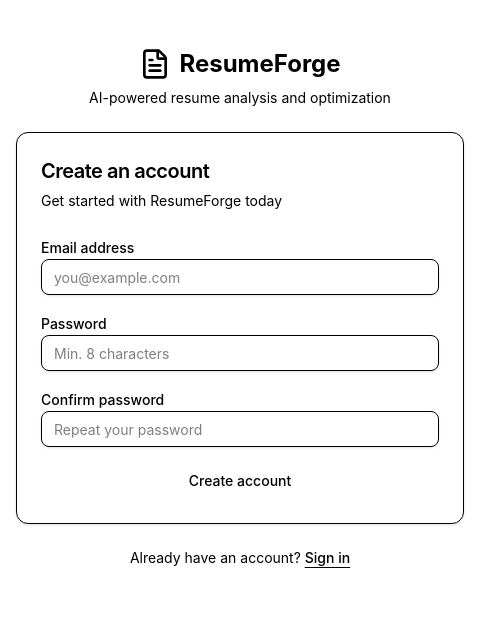
Register page › shows validation error for invalid email
Type "notanemail" into the field labelled "Email address".
click(240, 277); type("notanemail")  # box [41,259,439,295]
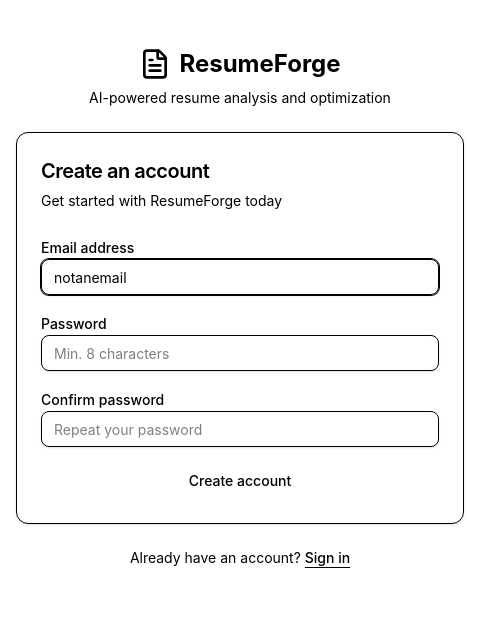
Click the button "Create account".
click(240, 481)  # box [41,463,439,499]
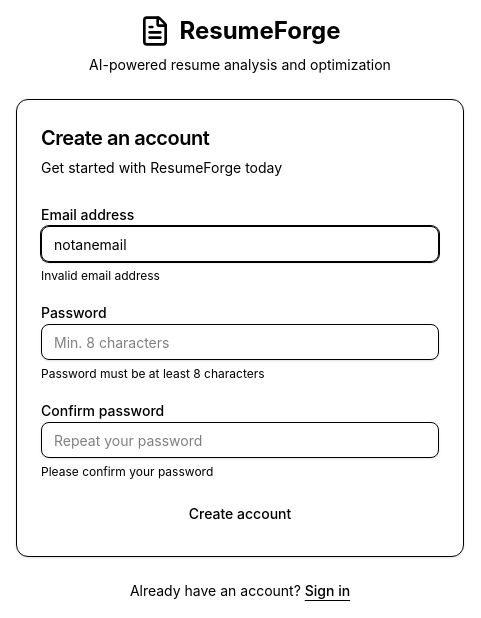
Check: the text "Invalid email address" is shown, box [41,268,160,283]
